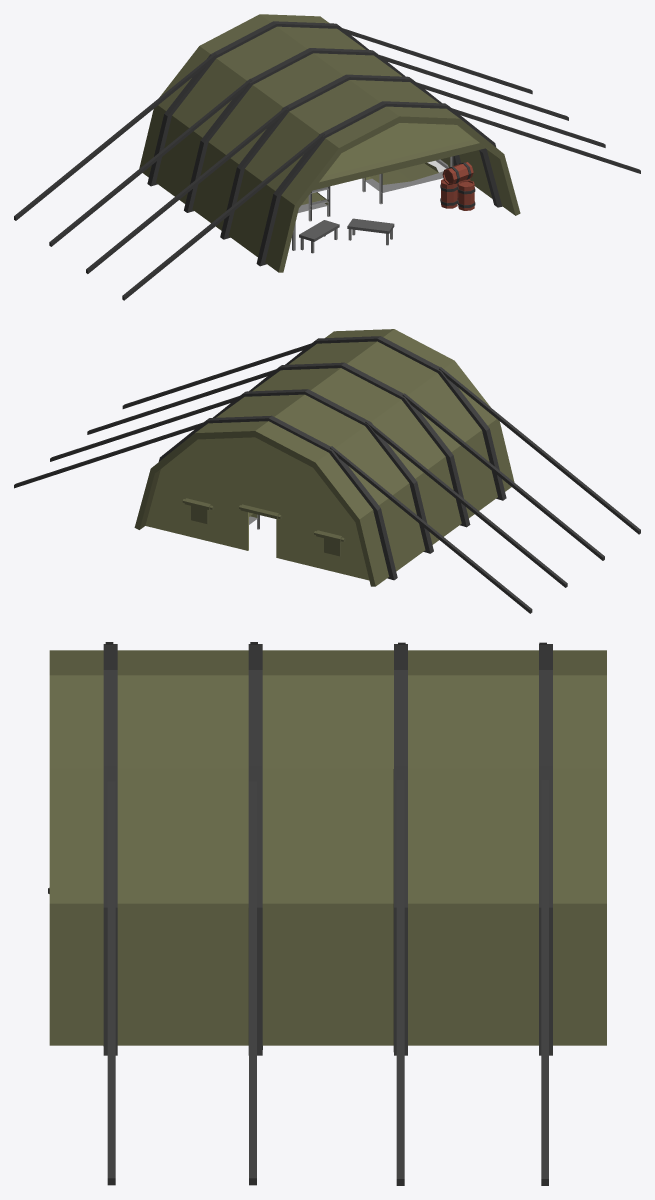
The model's file is MilitaryTent.glb.
3 views of the same model, one above another, from view 1: azimuth 30°, elevation 25°; view 2: azimuth 150°, elevation 25°; view 3: azimuth 270°, elevation 25° (orthographic). The views are drawn at different scales.
Parts seen in each view (by area): view 1: Cylinder; view 2: Cylinder; view 3: Cylinder.
Part boxes in pixels (bbox=[...]): Cylinder: bbox=[14, 14, 640, 300]; Cylinder: bbox=[14, 329, 640, 613]; Cylinder: bbox=[48, 642, 606, 1185].
Size of the model in its own units: 18.86 by 4.65 by 8.84.
